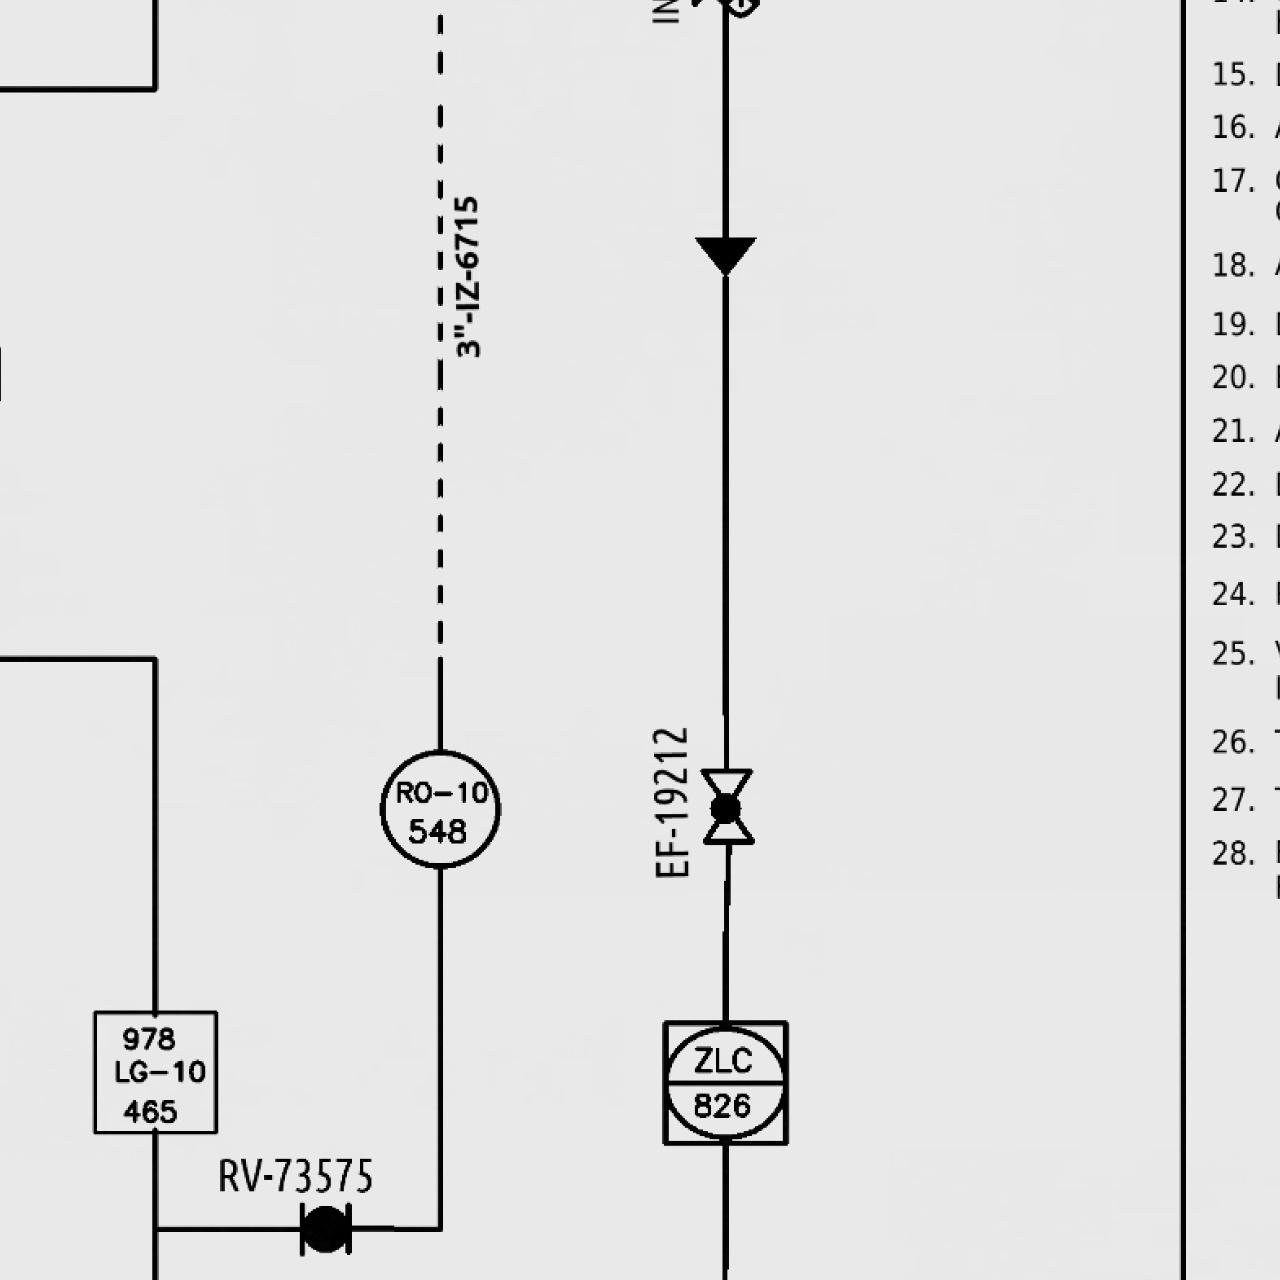Control-Panel: (375, 744, 504, 872)
